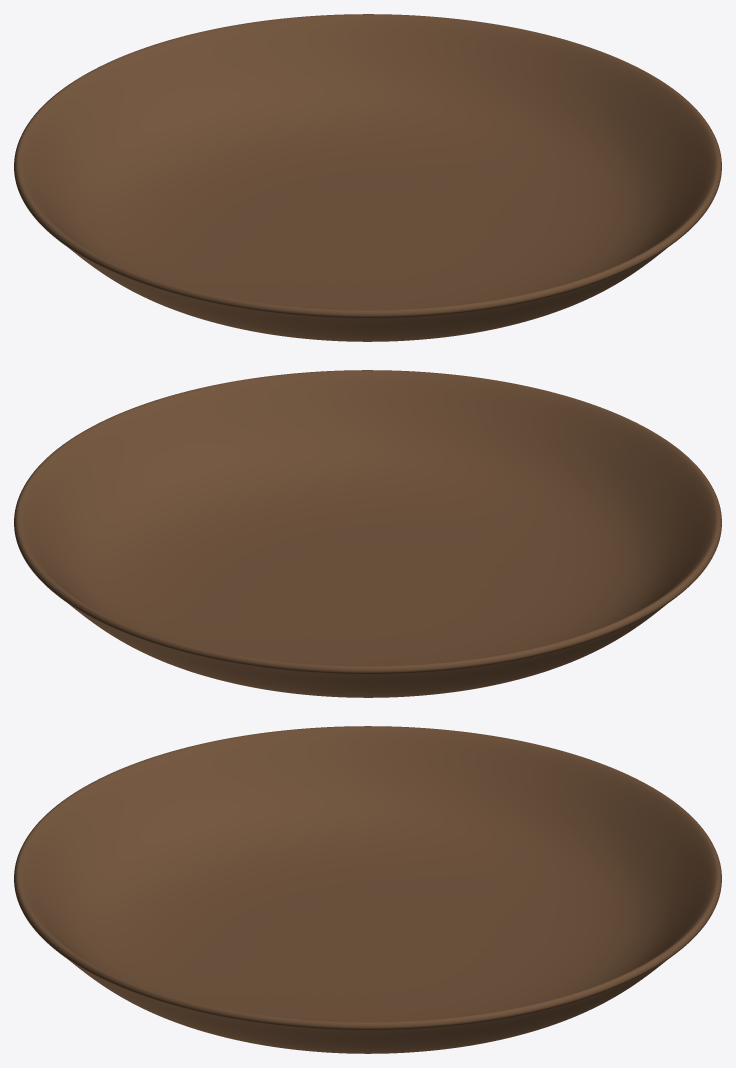
Rendered from single-products-dis-30-studio.glb.
3 views of the same model, one above another, from view 1: azimuth 30°, elevation 25°; view 2: azimuth 150°, elevation 25°; view 3: azimuth 270°, elevation 25° (orthographic).
Parts seen in each view (by area): view 1: DIS30; view 2: DIS30; view 3: DIS30.
Boxes of the visible parts, left/top/right/bottom form: DIS30: left=14, top=14, right=721, bottom=341; DIS30: left=14, top=370, right=721, bottom=697; DIS30: left=14, top=726, right=721, bottom=1053.
Bounding box in the file's own units: 0.3 × 0.038 × 0.3.
